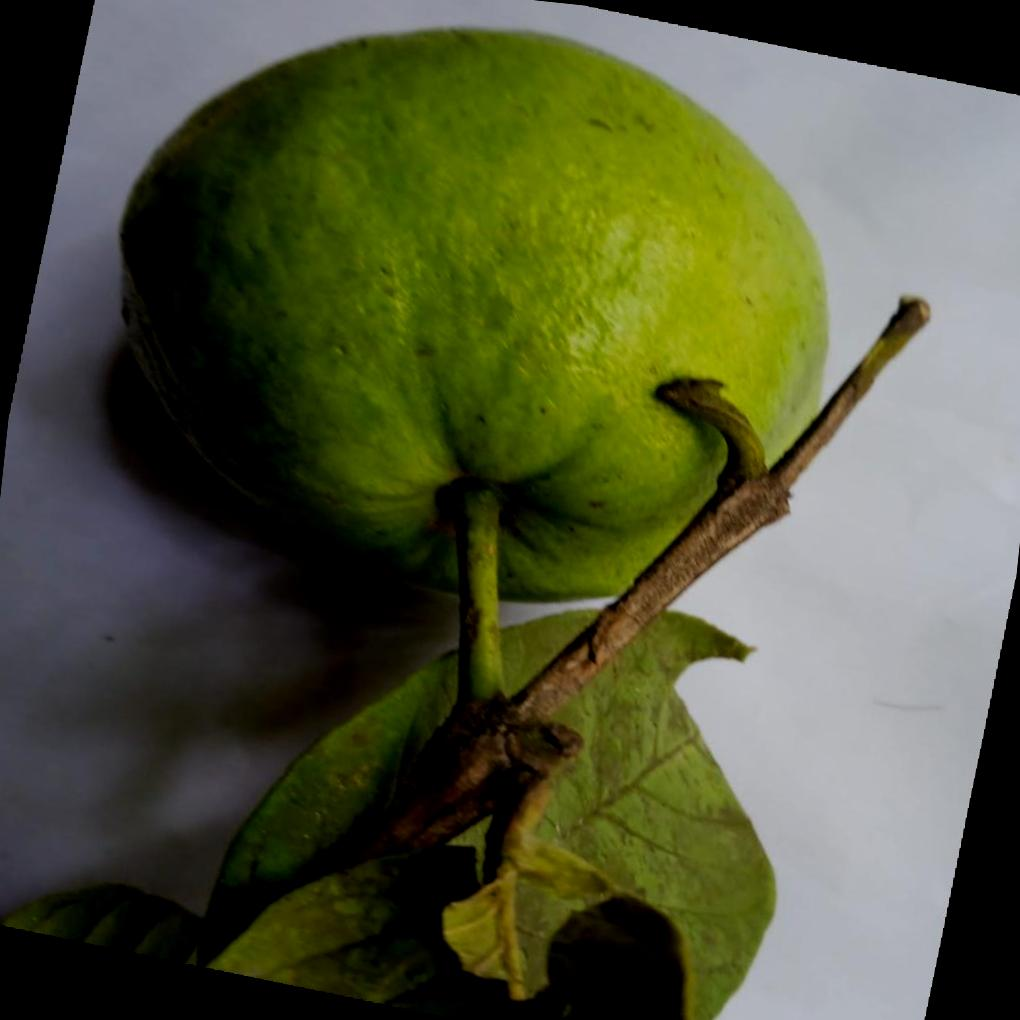FreshGuava: (113, 25, 828, 651)
